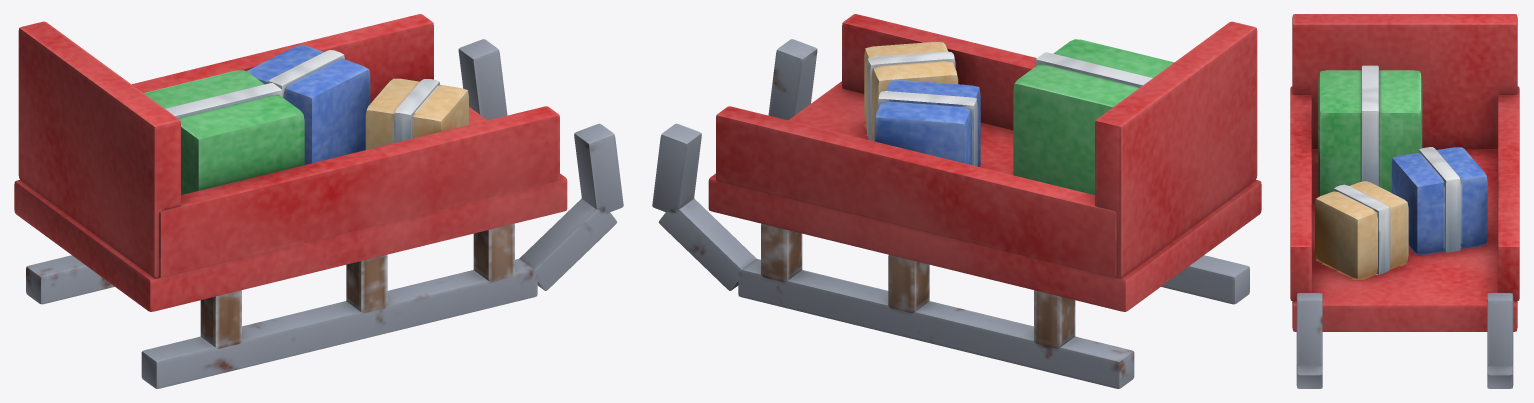
The model's file is Glace_Traineau.fbx.
3 views of the same model, side by side, from view 1: azimuth 30°, elevation 25°; view 2: azimuth 150°, elevation 25°; view 3: azimuth 270°, elevation 25° (orthographic). The views are drawn at different scales.
Parts seen in each view (by area): view 1: Glace_Traineau; view 2: Glace_Traineau; view 3: Glace_Traineau.
Boxes of the visible parts, x1,y1,x2,y2 form: Glace_Traineau: (14,14,623,388); Glace_Traineau: (652,14,1261,388); Glace_Traineau: (1290,14,1519,388).
Size of the model in its own units: 524 by 280 by 265.
1 material, 1 textured.
